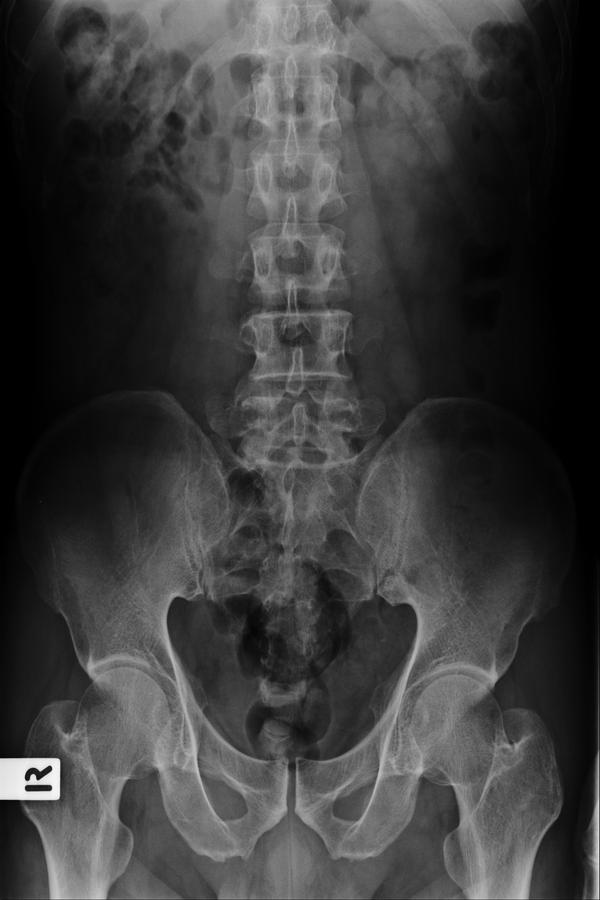not lumbar scoliosis: (234, 160, 368, 478)
